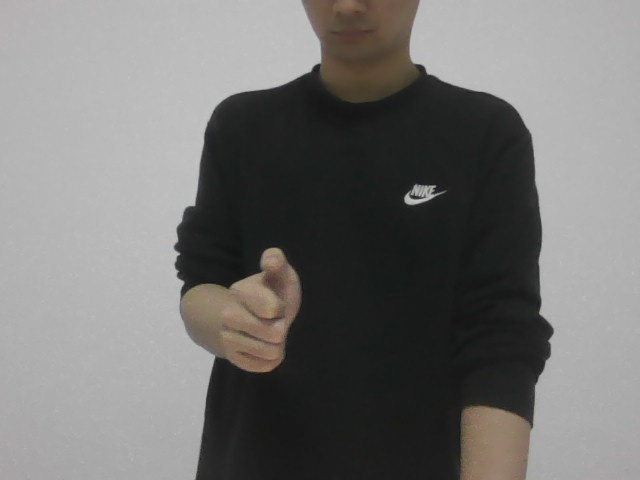thank you: (218, 250, 313, 377)
